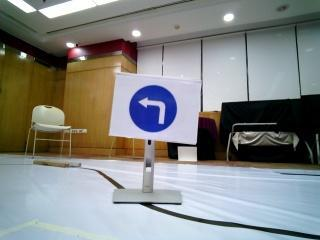left: (119, 79, 193, 145)
